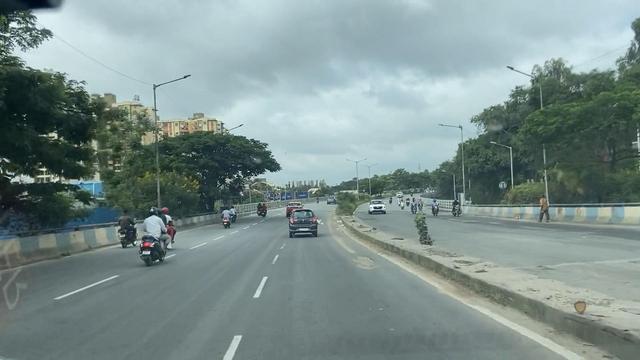LMV: (144, 209, 168, 261), (290, 207, 318, 239)
RoadDamages: (350, 249, 376, 277), (333, 232, 355, 255)
